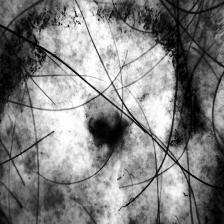Benign Marking or Mole: (87, 114, 130, 147)
